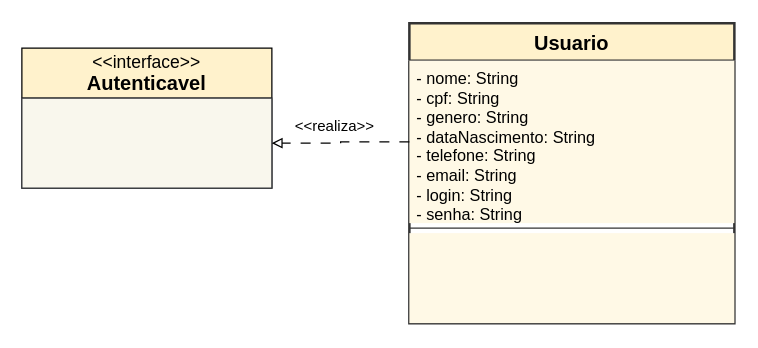
Image size: 758x348. Some labels were removed from this diagram. The centre of each missing label's shape, as x and y in pixels:
+ autenticar(String, String): boolean: [146,142]
+ Usario() + Usuario(nome: String,cpf: String ,login: String ,senha: String ): [571,277]
